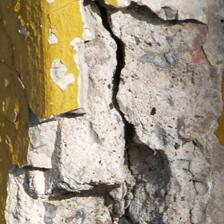Crack: (14, 56, 119, 119), (76, 97, 174, 127), (93, 0, 125, 39)
